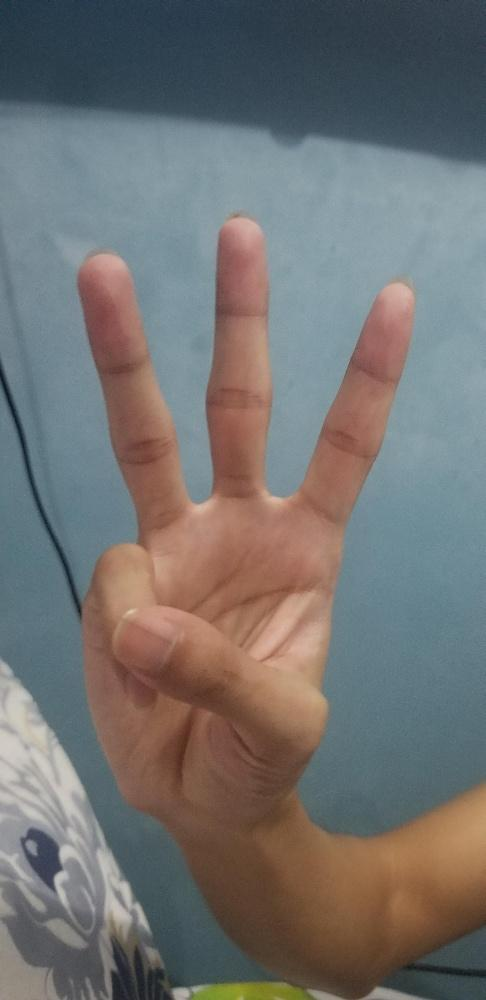w: (75, 210, 418, 823)
